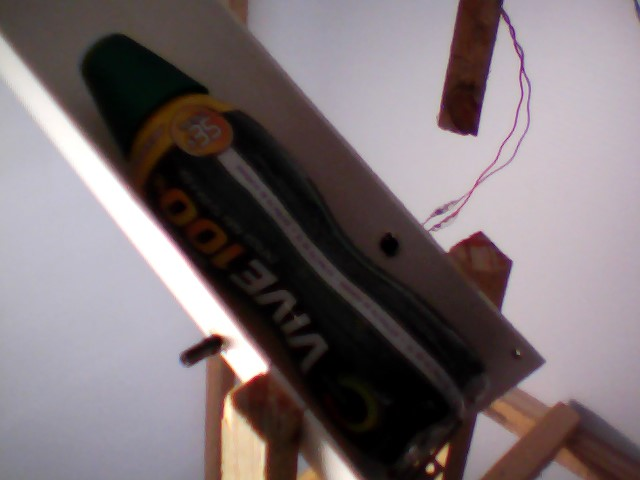plastico: (71, 24, 504, 477)
